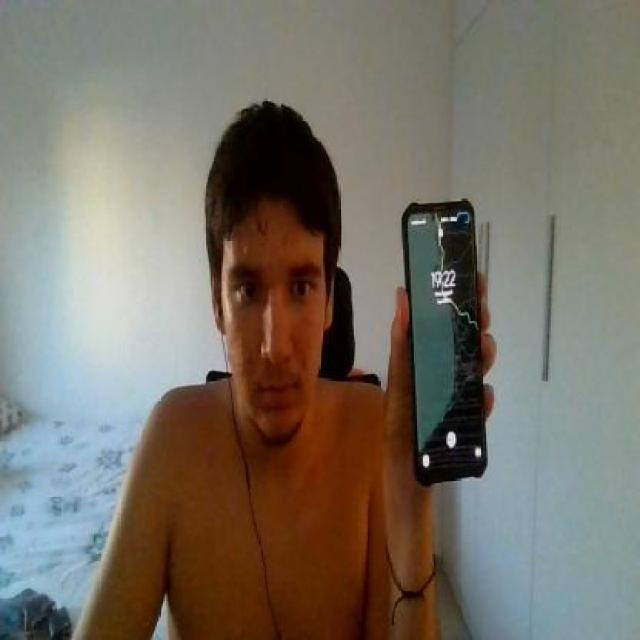phone: (402, 196, 489, 487)
